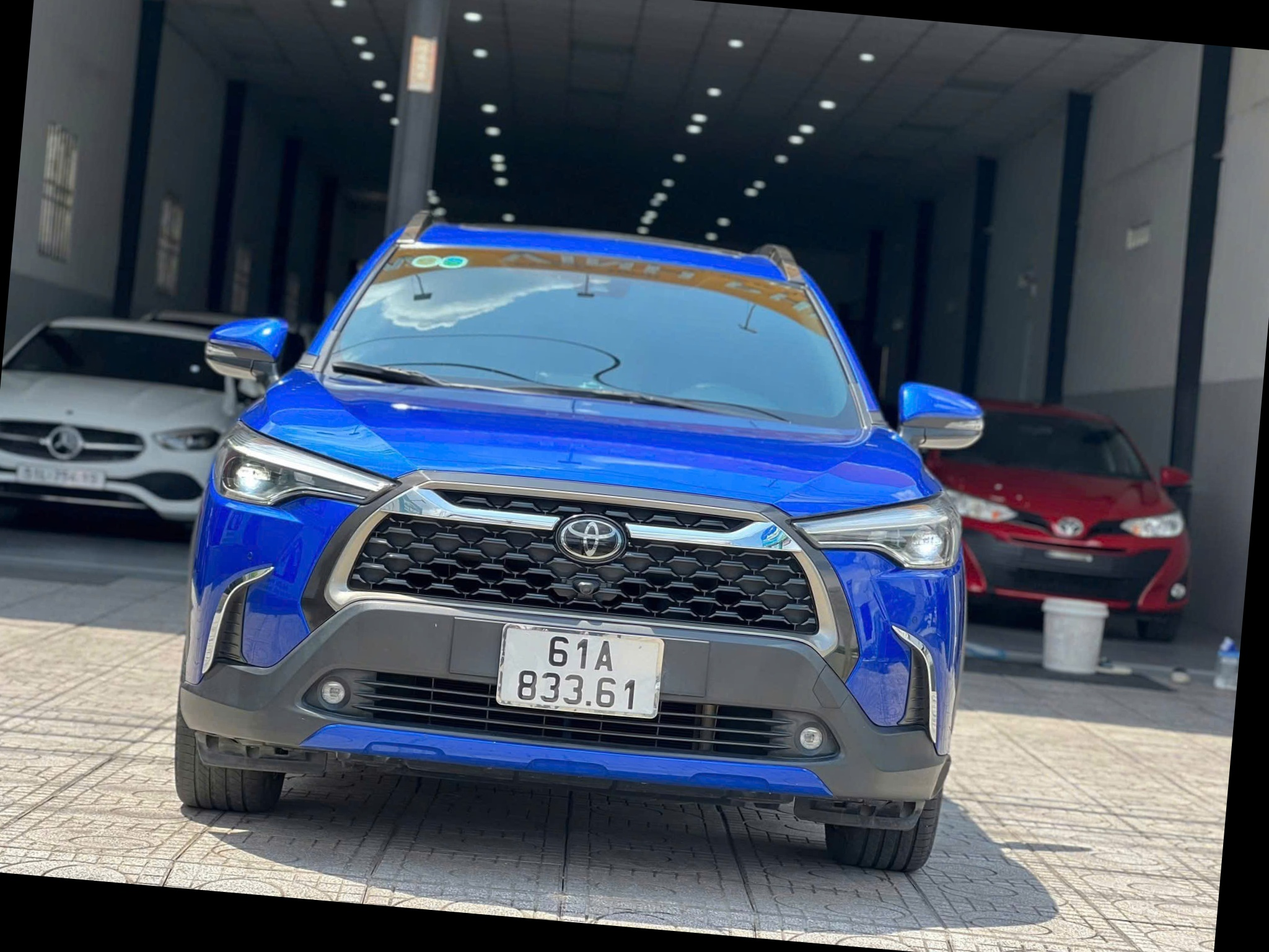Bien-so: (538, 622, 733, 740)
